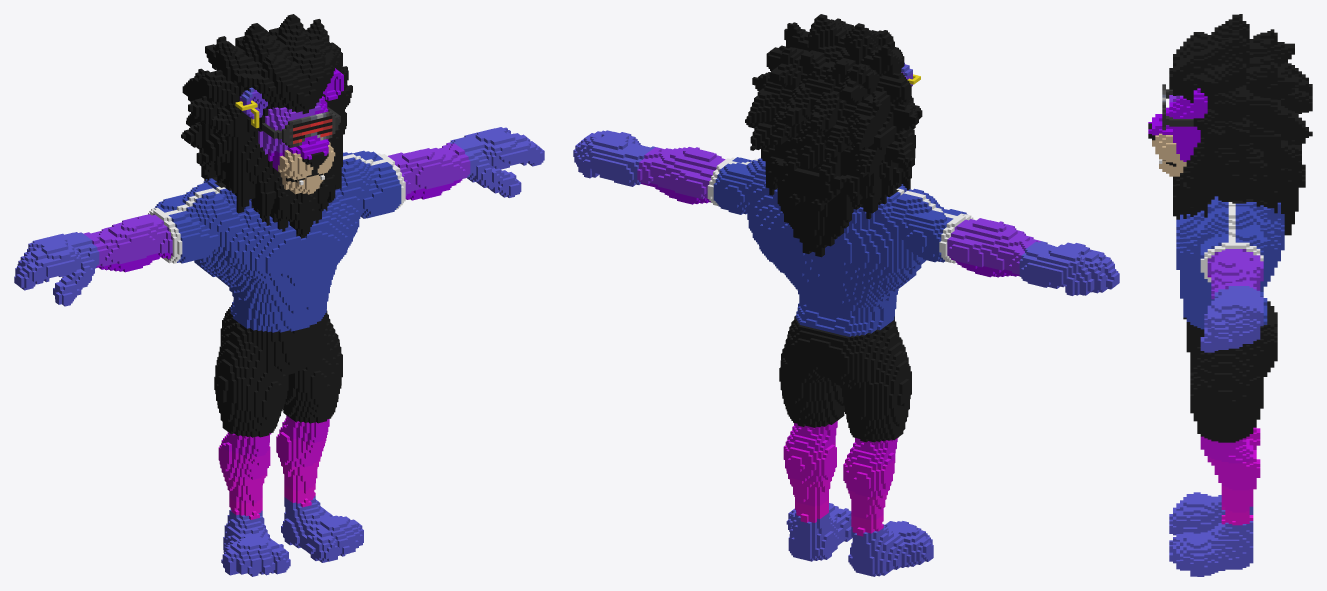
File: 825-B8_8pHA5.glb
The picture shows the model from 3 angles, left to right: view 1: azimuth 30°, elevation 25°; view 2: azimuth 150°, elevation 25°; view 3: azimuth 270°, elevation 25°; orthographic projection. The views are drawn at different scales.
Visible parts, largest first — view 1: standard; view 2: standard; view 3: standard.
Boxes of the visible parts, x1,y1,x2,y2 form: standard: (14, 14, 544, 576); standard: (573, 14, 1119, 576); standard: (1148, 14, 1312, 576).
Bounding box in the file's own units: 17.2 × 16.5 × 4.7.
Materials: 6 (6 with a texture image).
